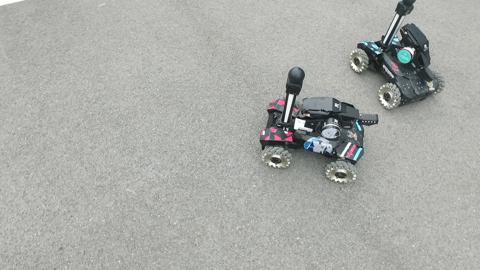chariot: (251, 62, 383, 192), (350, 1, 457, 117)
